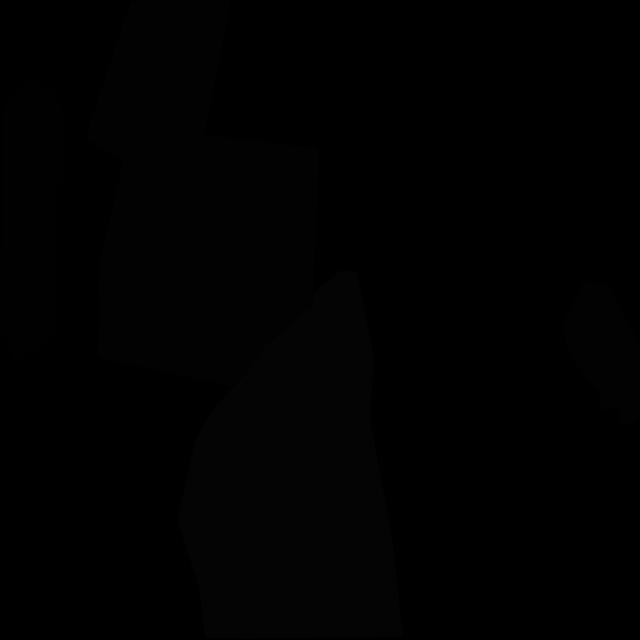cardboard: (96, 125, 319, 387), (85, 0, 232, 160), (561, 281, 640, 429)
rigid_plastic: (2, 77, 64, 365)
soft_plastic: (177, 271, 403, 639)
